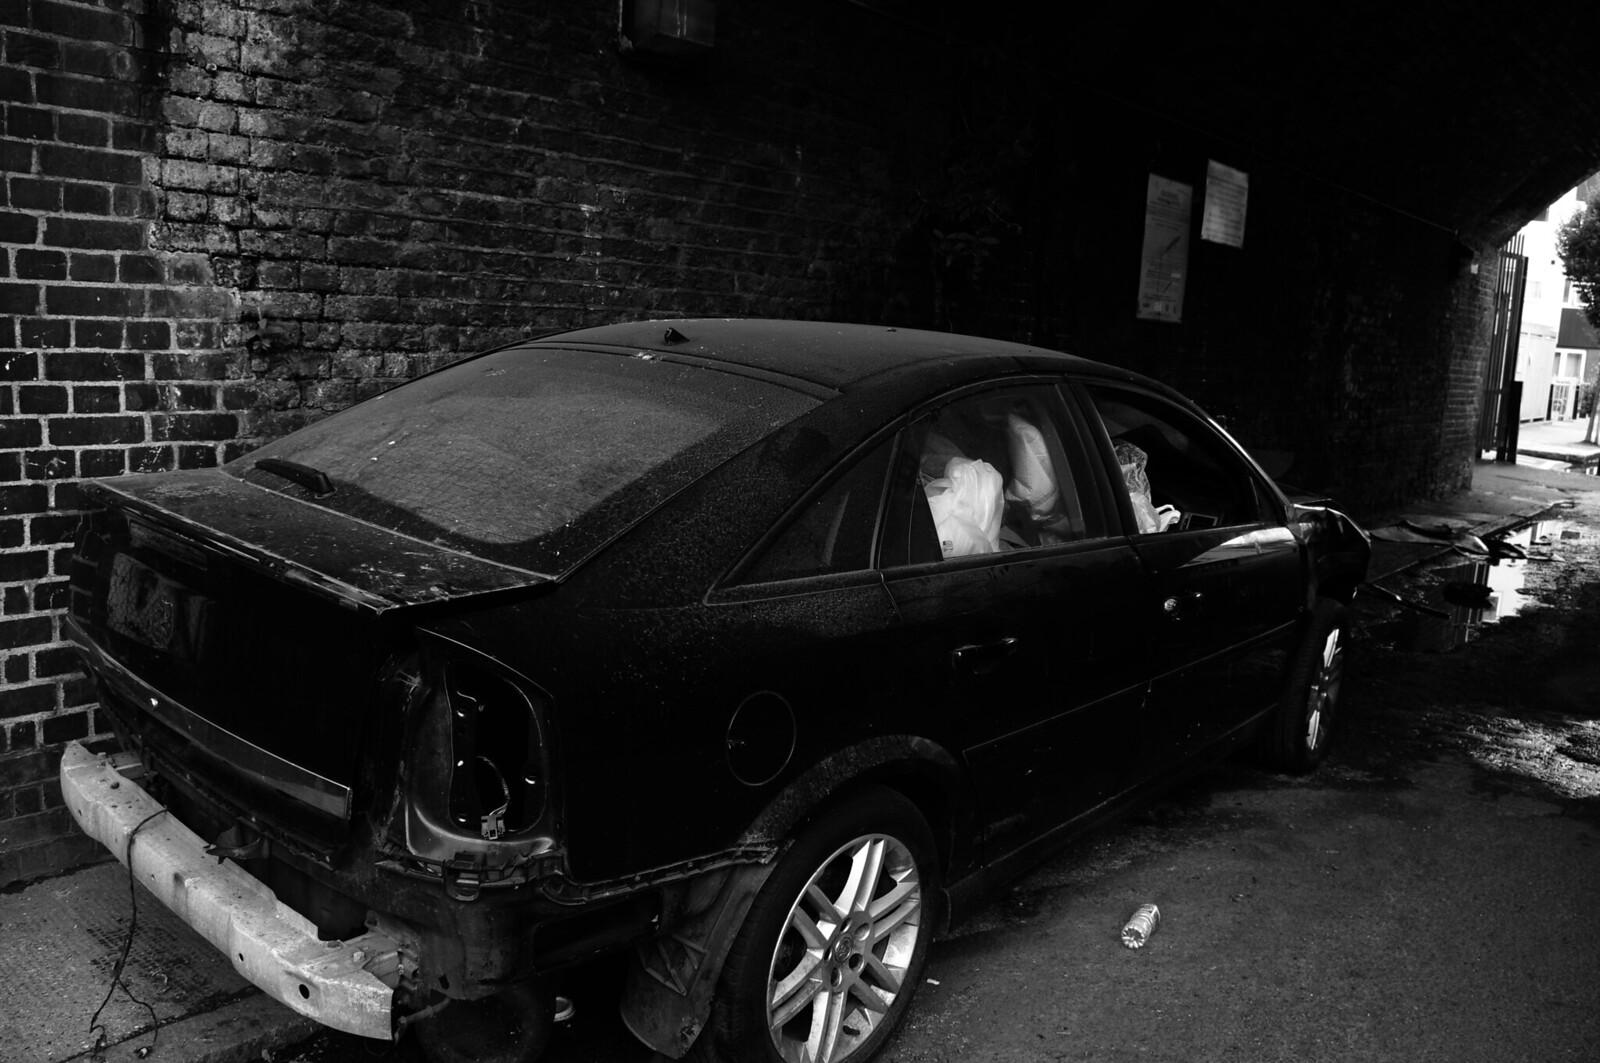rear-bumper-dent: (1, 605, 523, 992)
